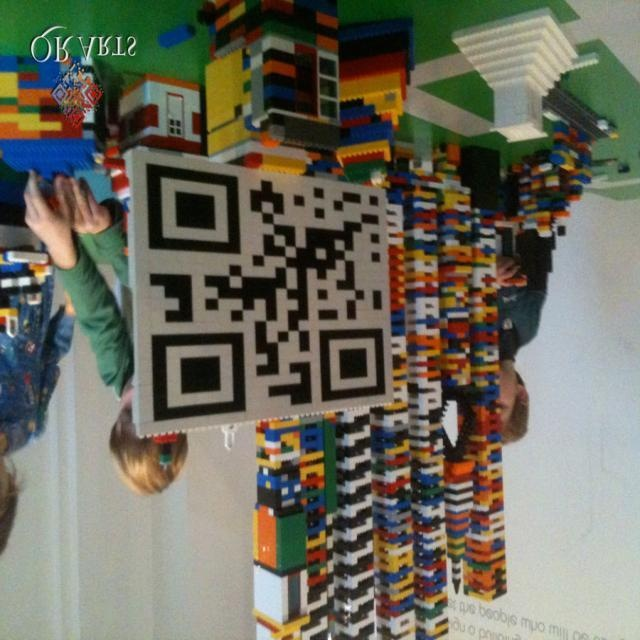qr-code: (147, 164, 386, 422)
